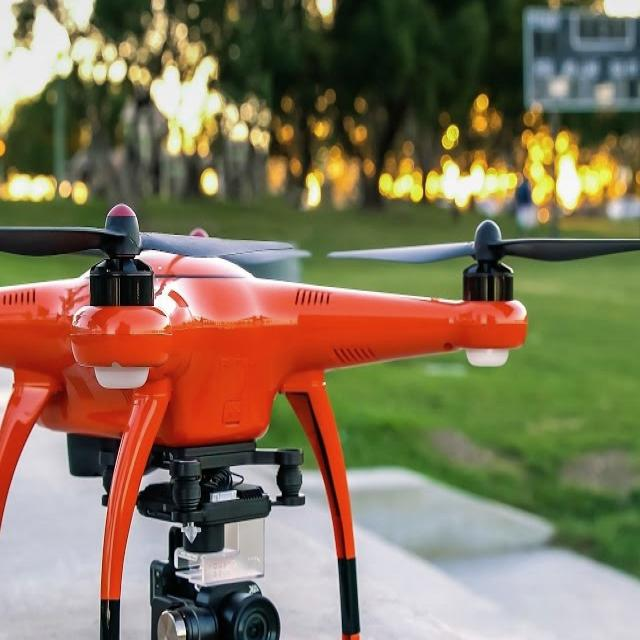drone: (0, 186, 640, 436)
